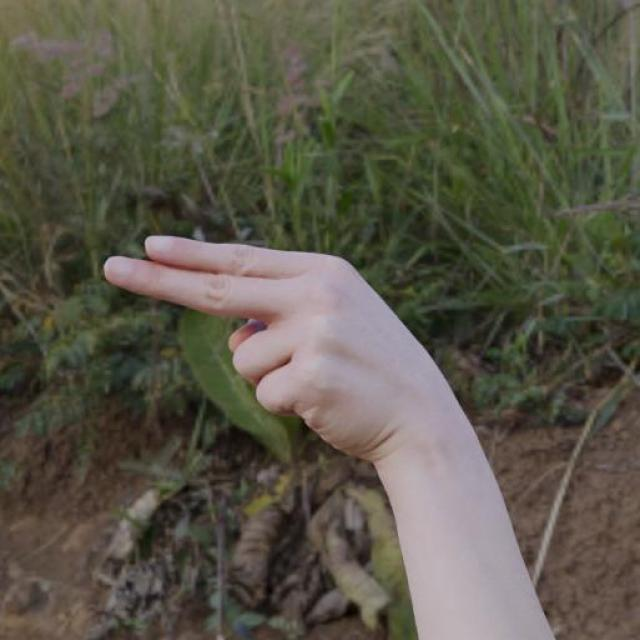H: (94, 228, 441, 490)
